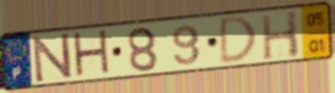8: (126, 25, 159, 73)
9: (170, 23, 201, 66)
D: (219, 14, 259, 67)
H: (259, 9, 302, 62), (71, 28, 113, 81)
N: (31, 31, 75, 85)
